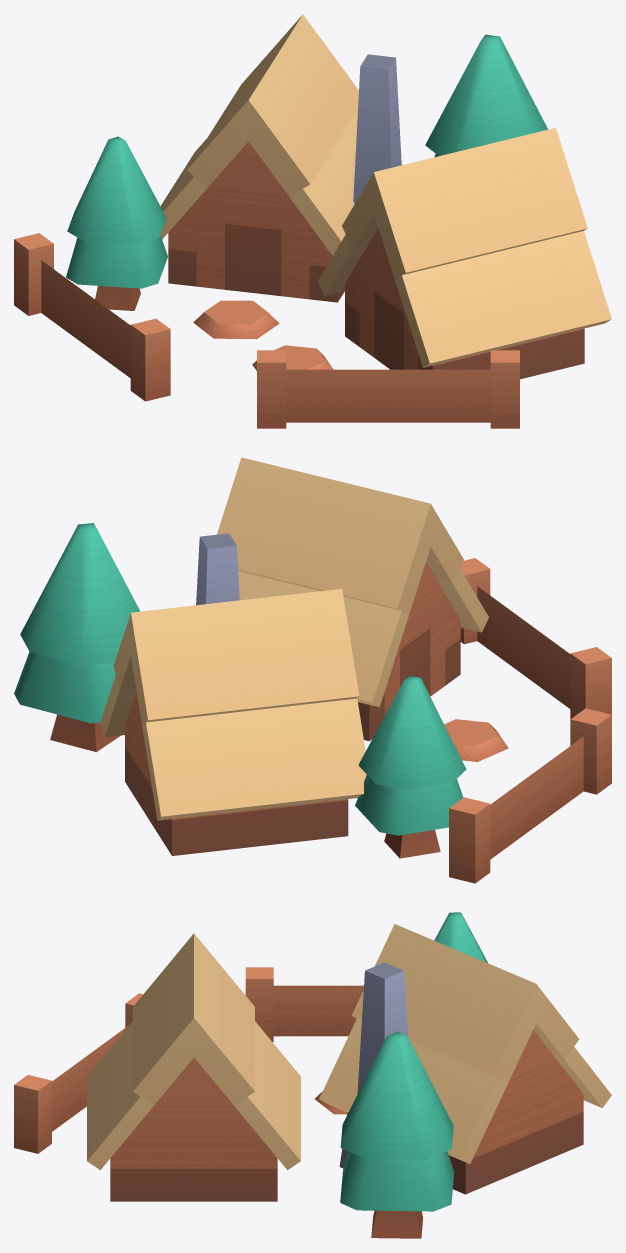
File: hx_building-village.glb
3 views of the same model, one above another, from view 1: azimuth 30°, elevation 25°; view 2: azimuth 150°, elevation 25°; view 3: azimuth 270°, elevation 25° (orthographic). The views are drawn at different scales.
Size of the model in its own units: 0.9414 by 0.4 by 1.07.
Materials: 1 (1 with a texture image).
